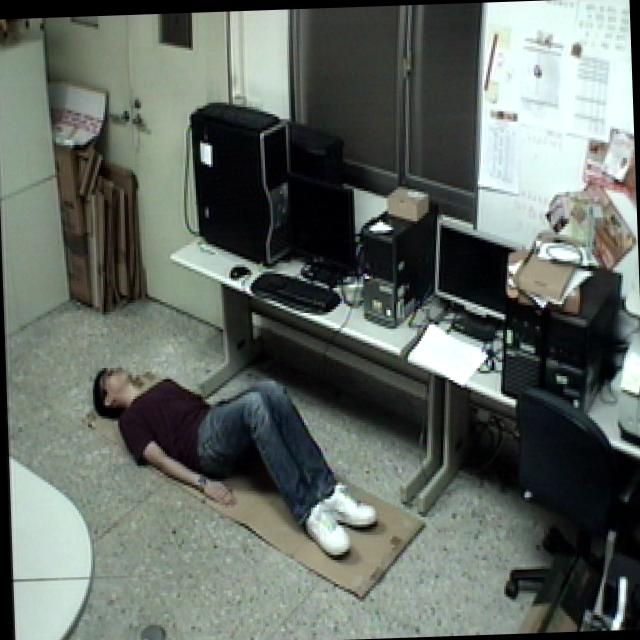lie: (82, 335, 381, 581)
